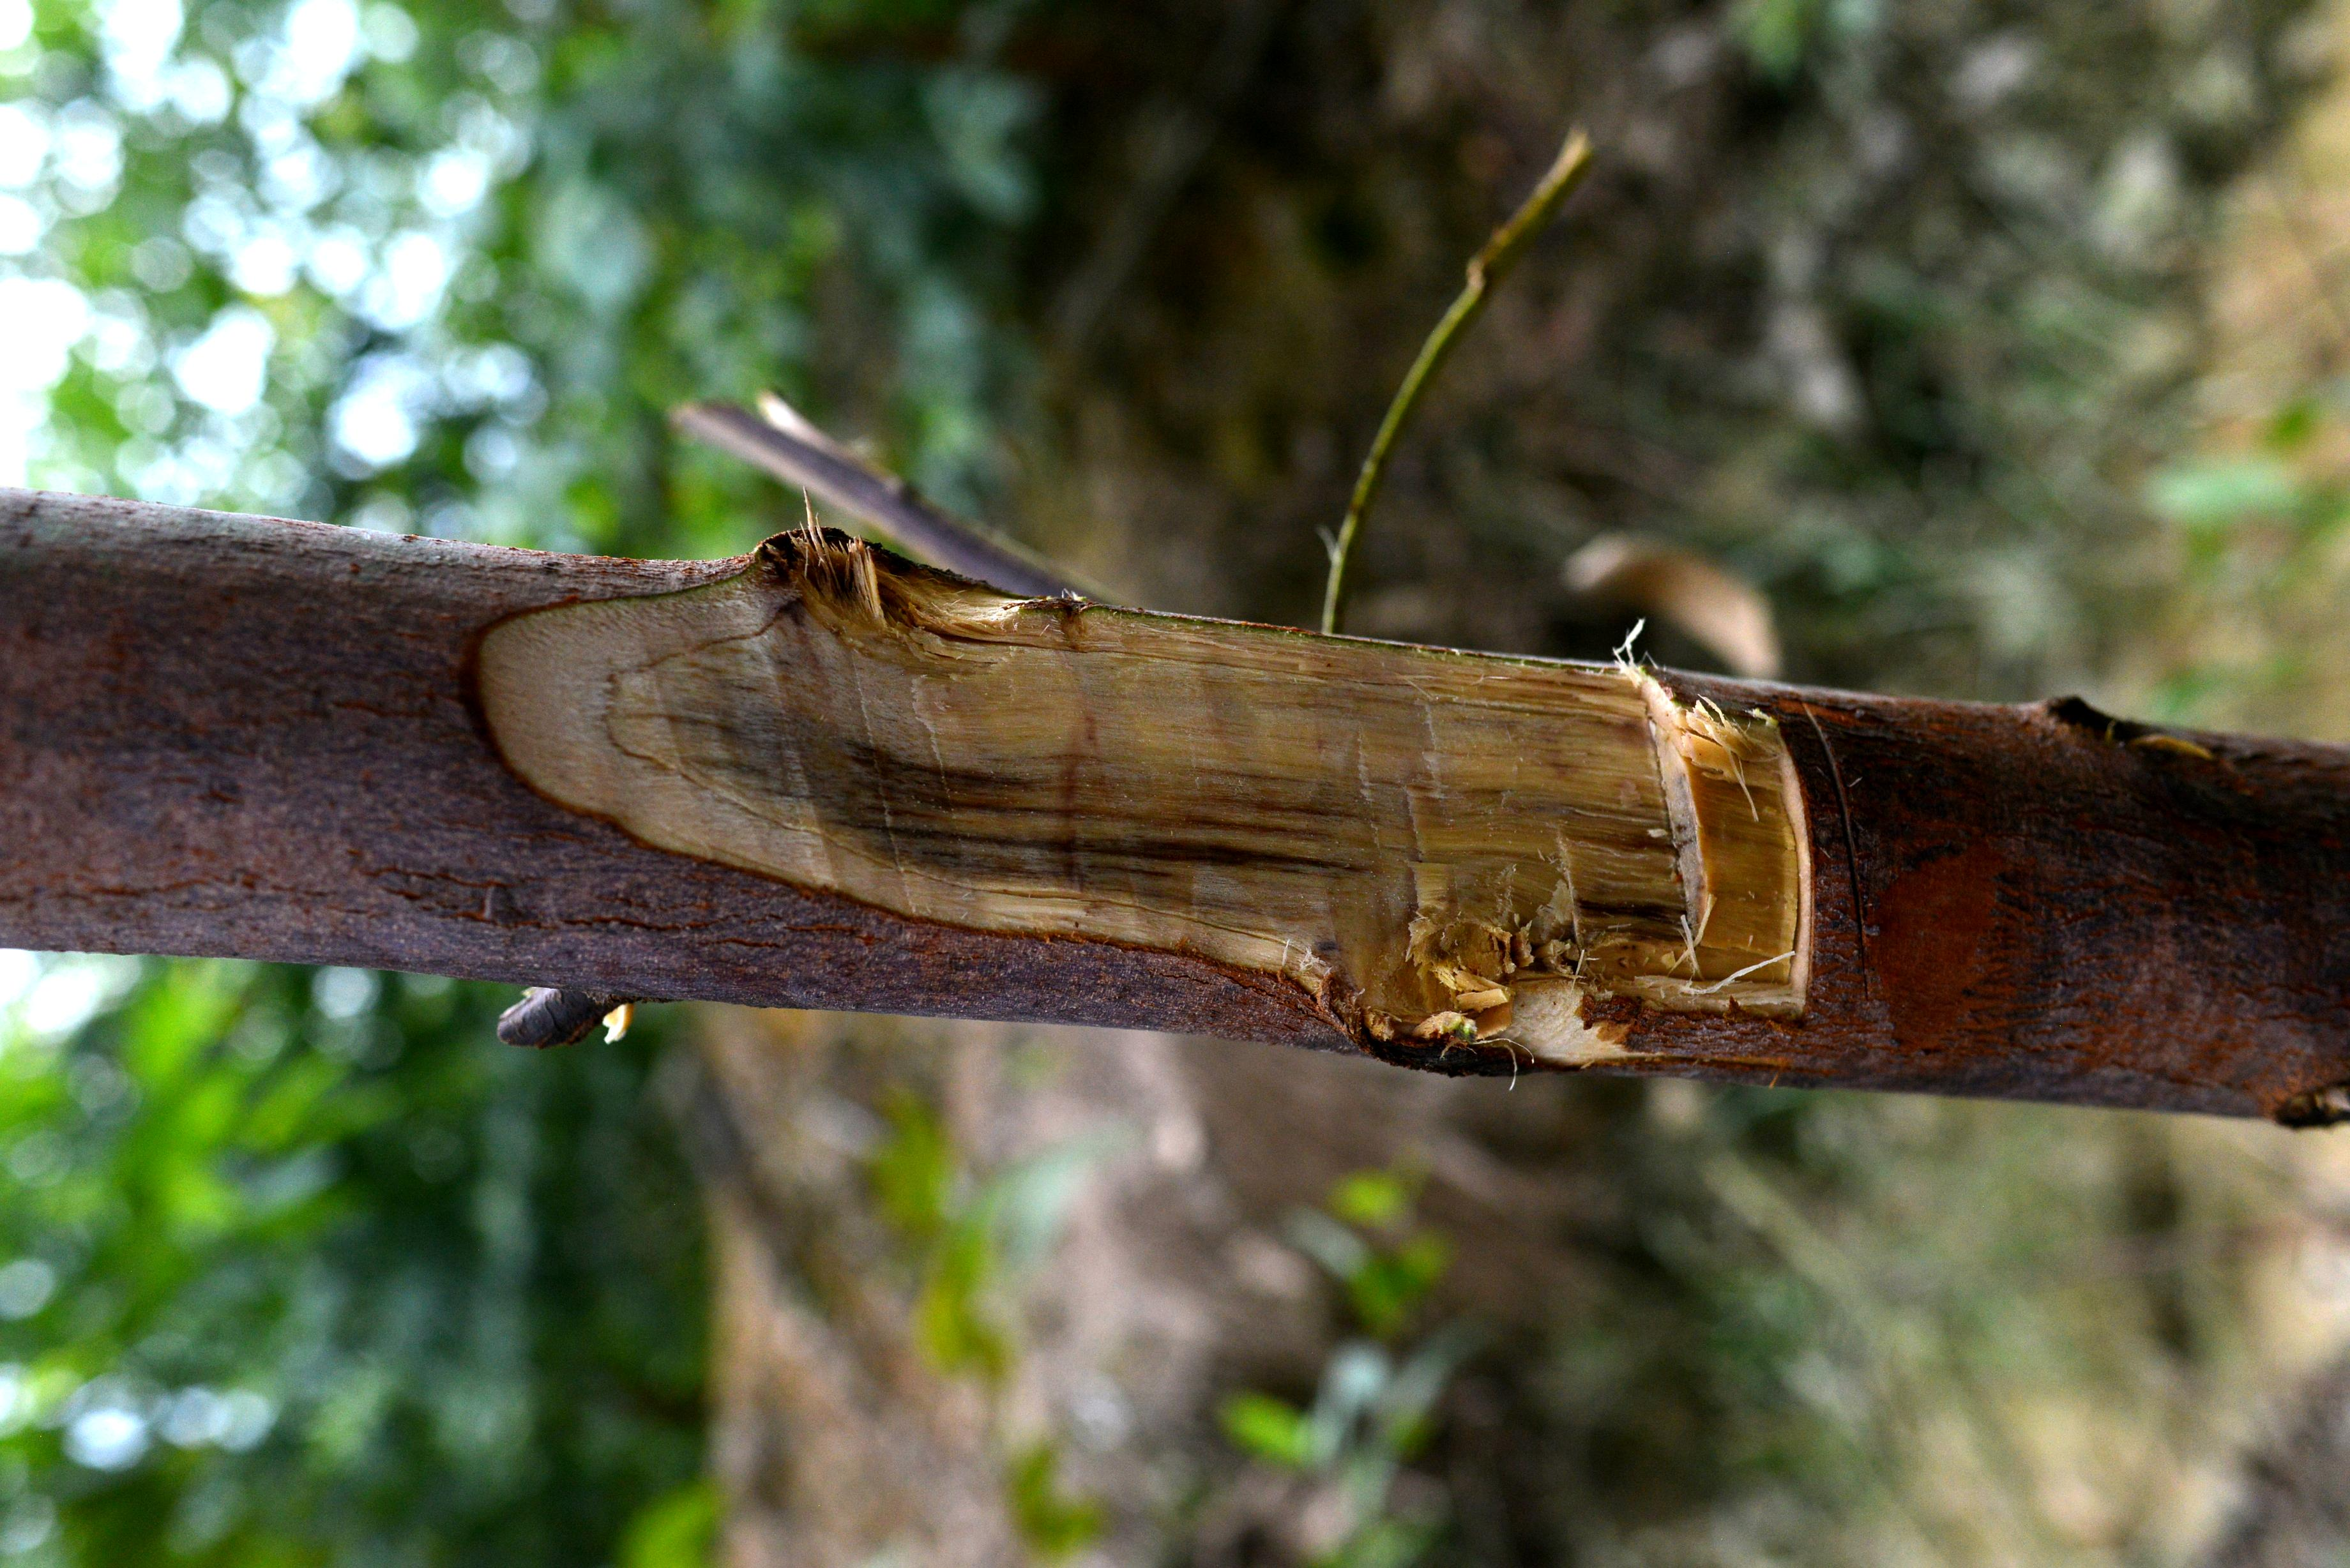Ralstonia: (492, 534, 1851, 1001)
